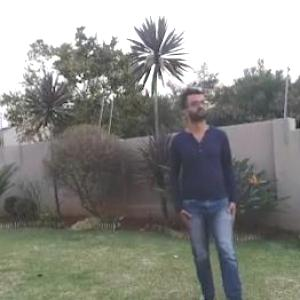follow: (163, 48, 250, 299)
